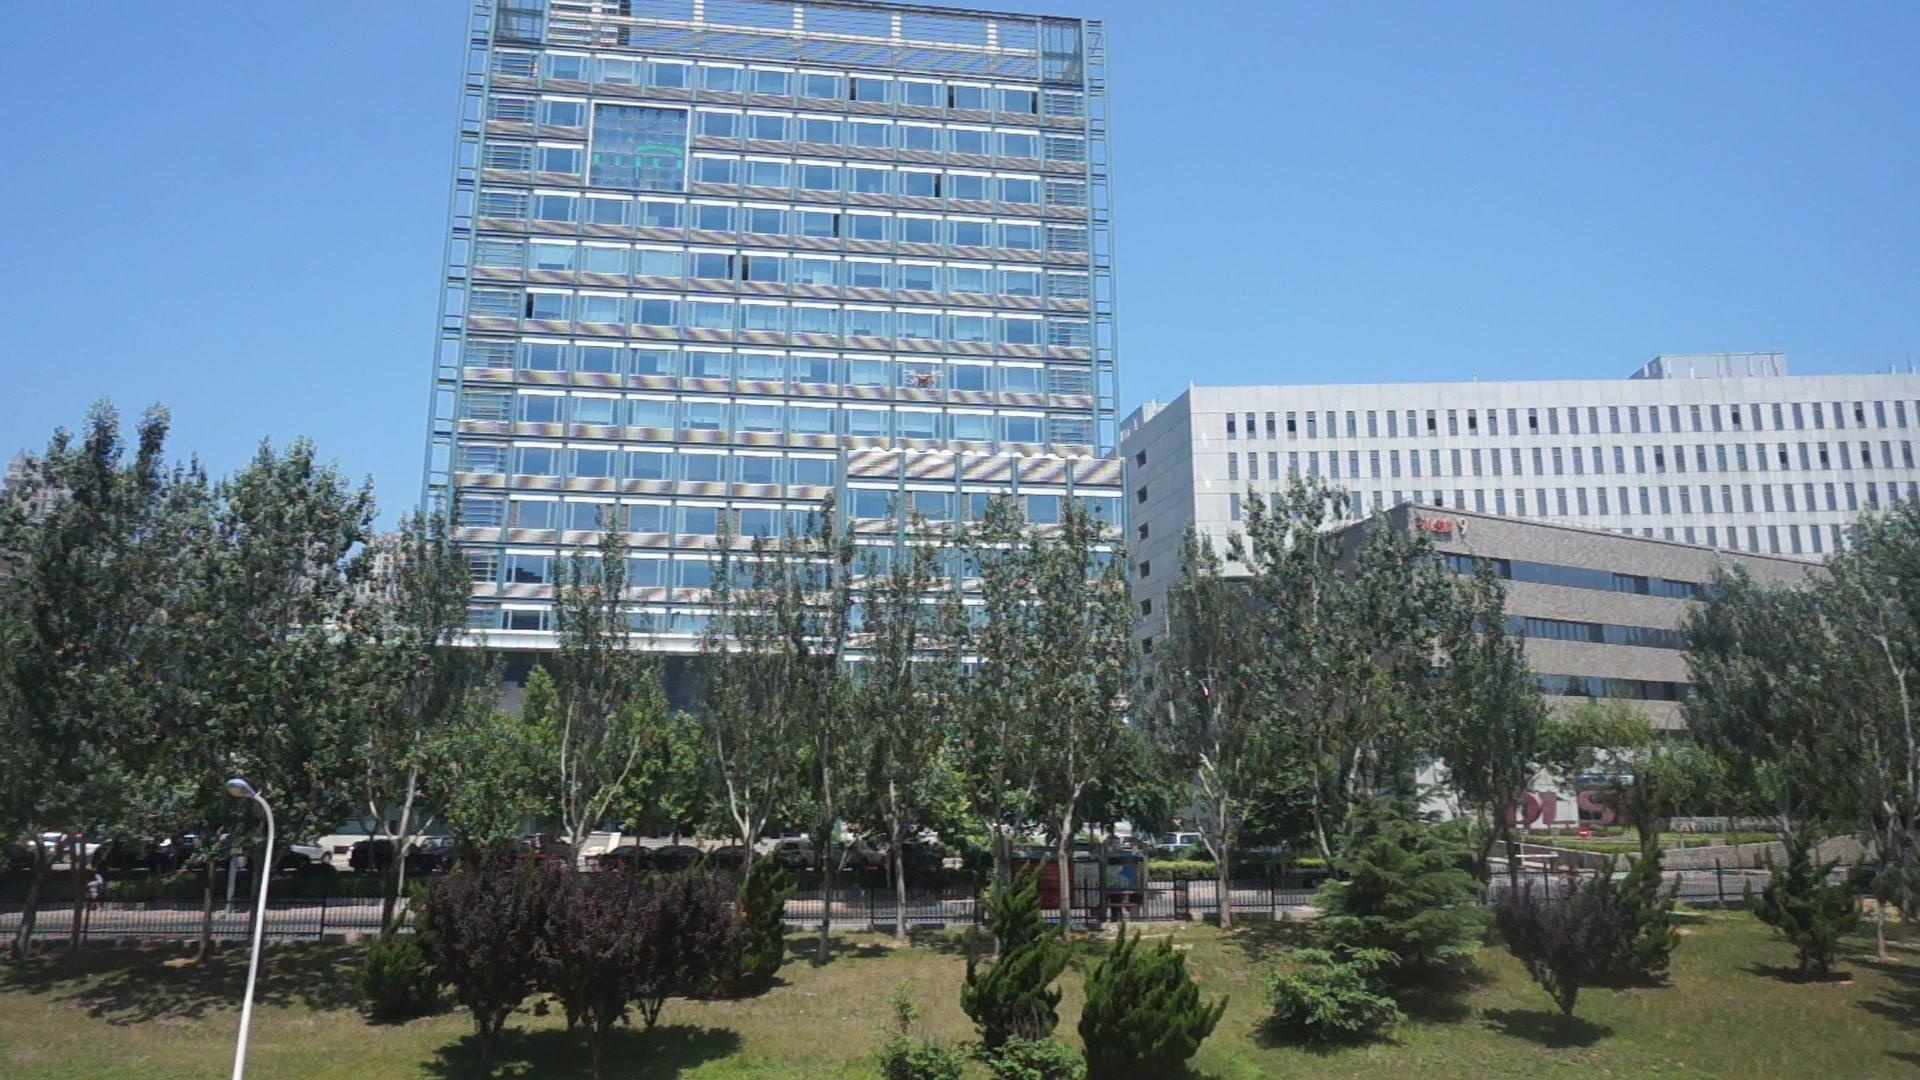UAV: (903, 371, 945, 388)
